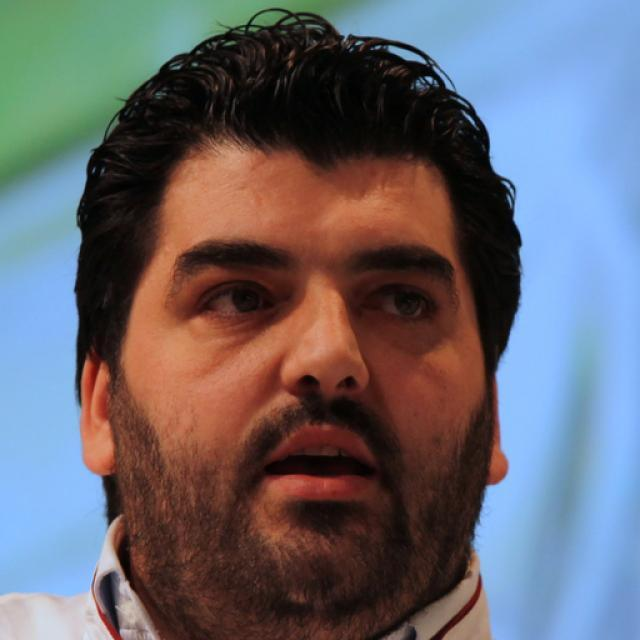surprise: (110, 128, 490, 637)
